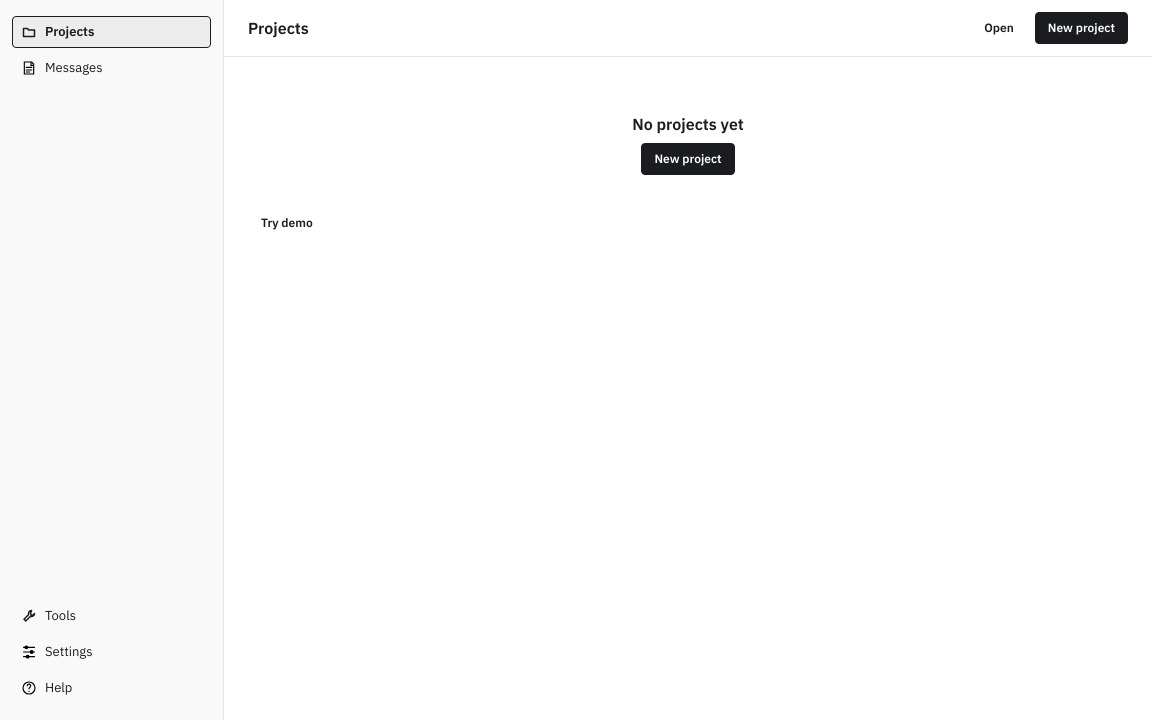
Test: a new project asks only for a name, goes into the remembered location, and opens on its empty Cases
Expected: the navigation bar named "Main" is shown, [0,0,224,719]
Step 1. Click the 1st button "New project" → (1081, 28), box [1035,12,1128,44]
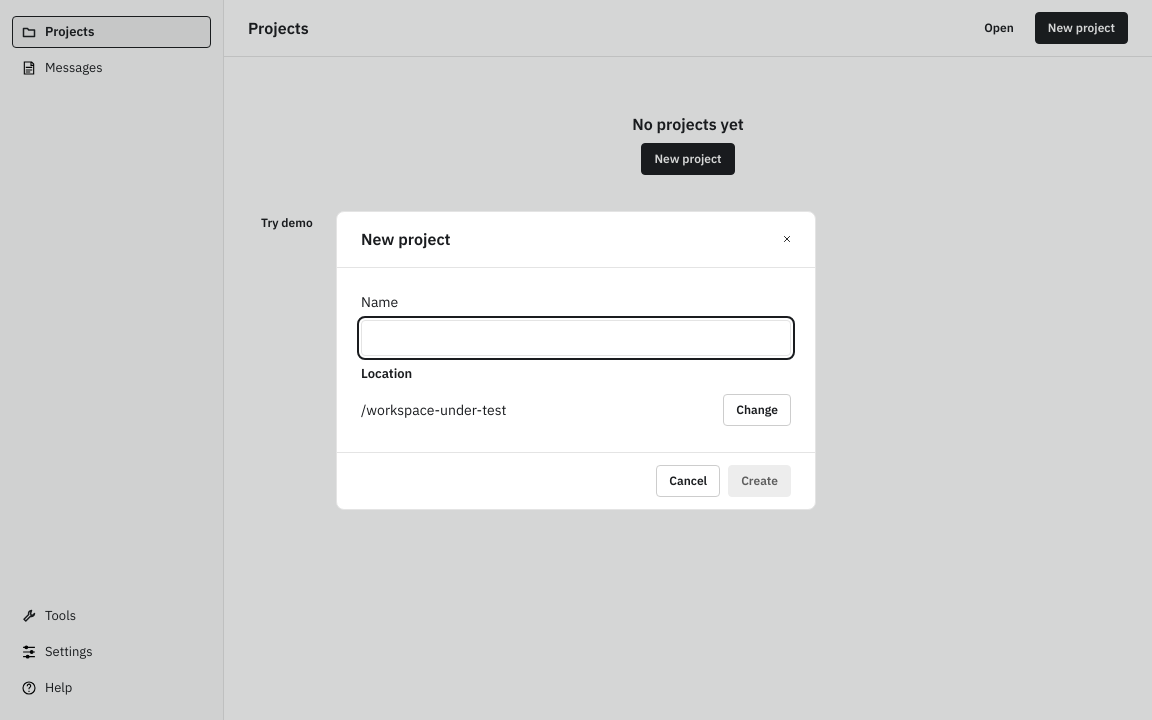
Now the number of fields is 1
Now the text "/workspace-under-test" is shown, box [361,400,506,418]
Step 2. Type "  Scheduling investigation " into the field labelled "Name" → (576, 338), box [361,320,791,356]
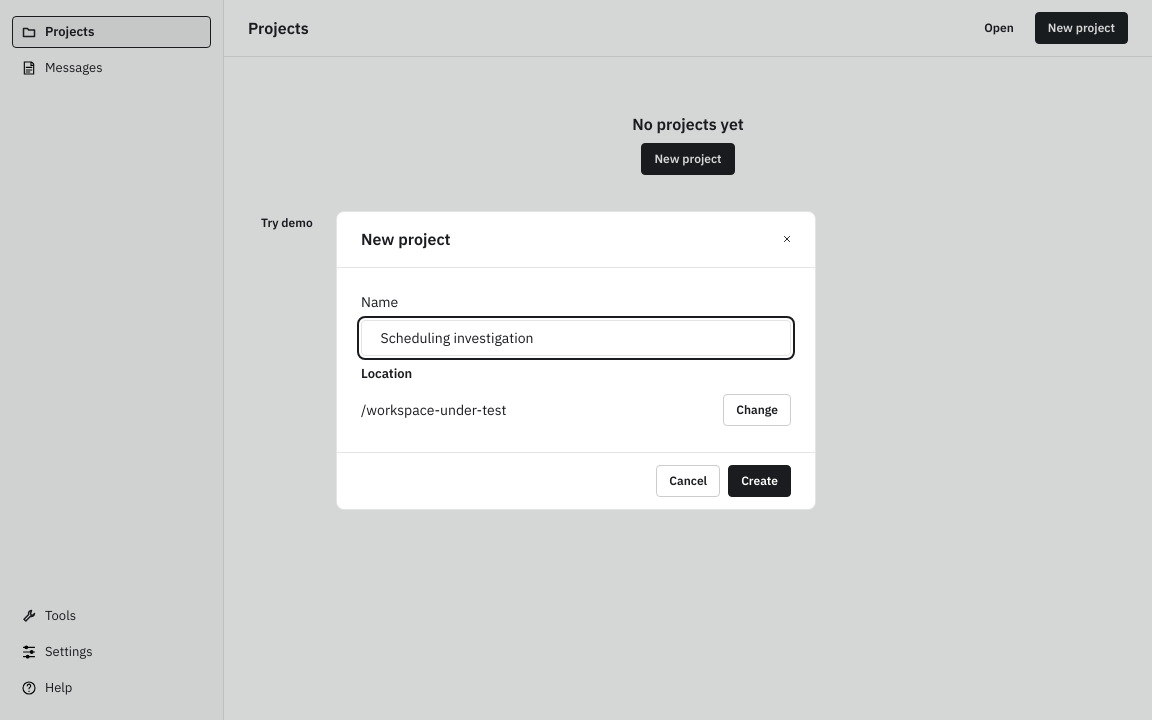
Step 3. Click the button "Create" → (760, 480), box [728,464,791,496]
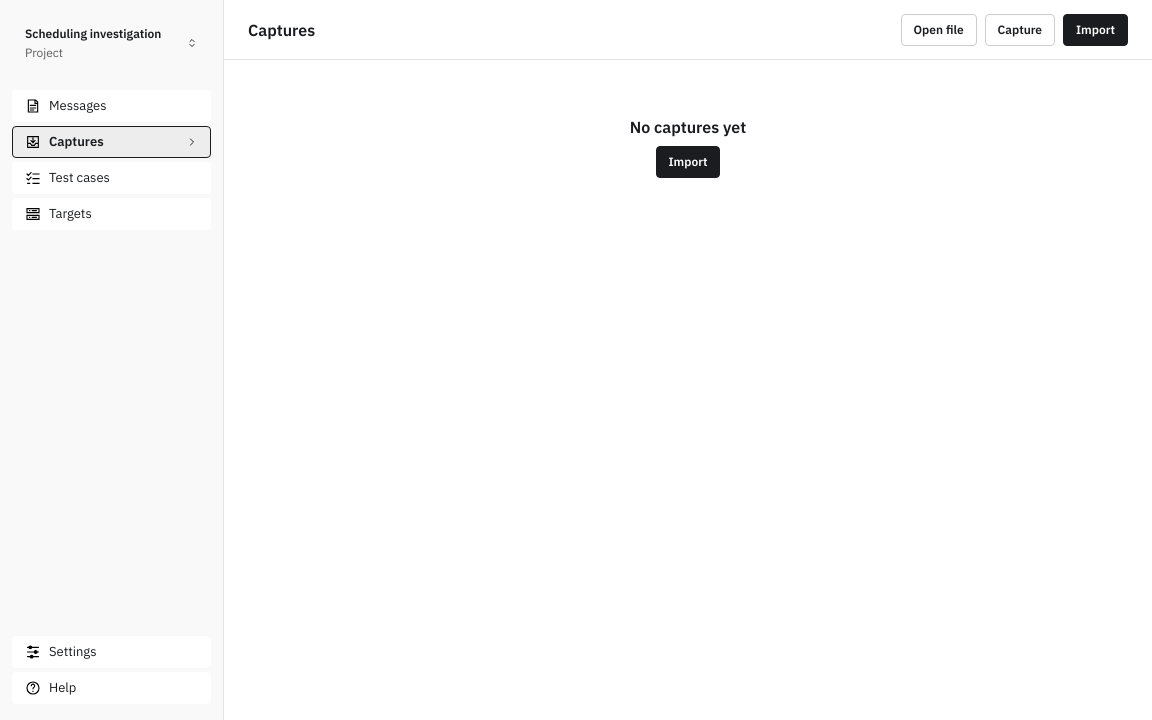
Now the heading "Captures" is shown, box [248,20,315,40]
Now the text "No captures yet" is shown, box [630,116,746,138]
Now the button "New project" is gone
